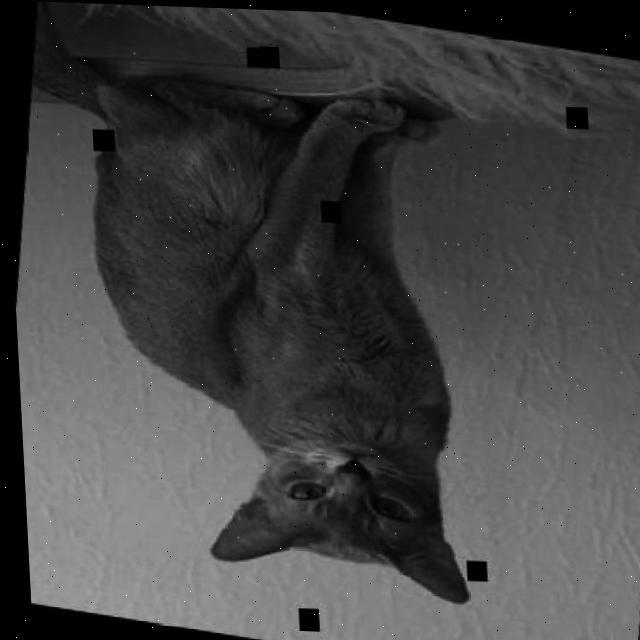Cat: (0, 0, 542, 610)
